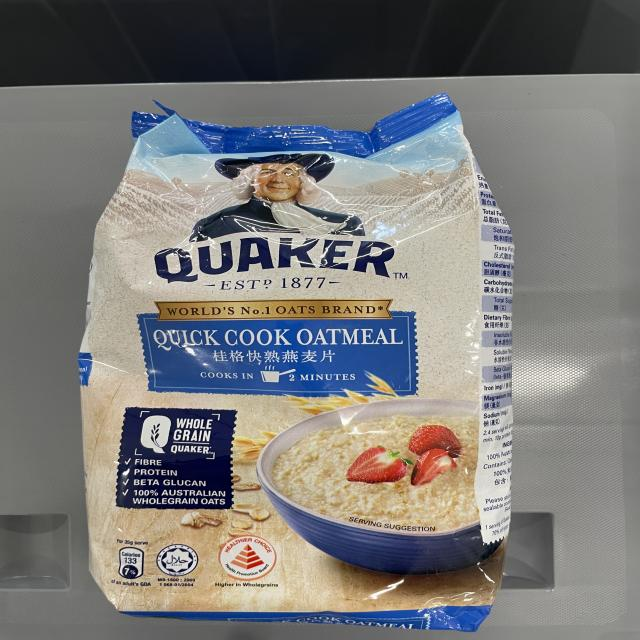object_name: (110, 121, 506, 615)
